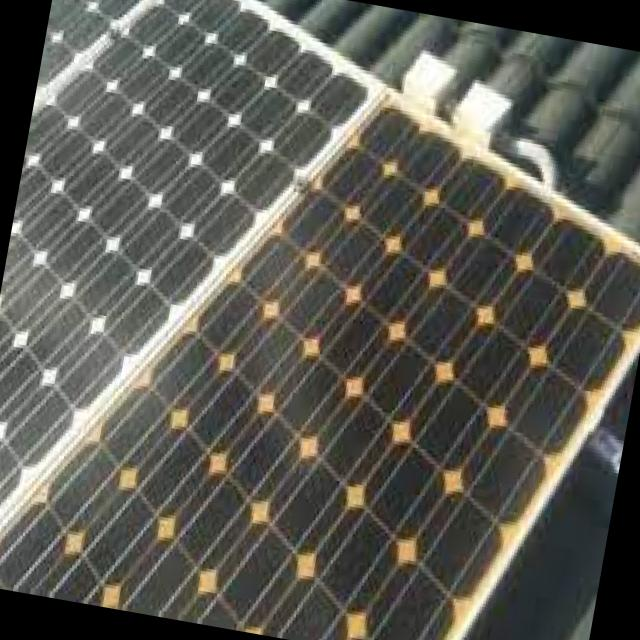faulty: (0, 105, 640, 640)
